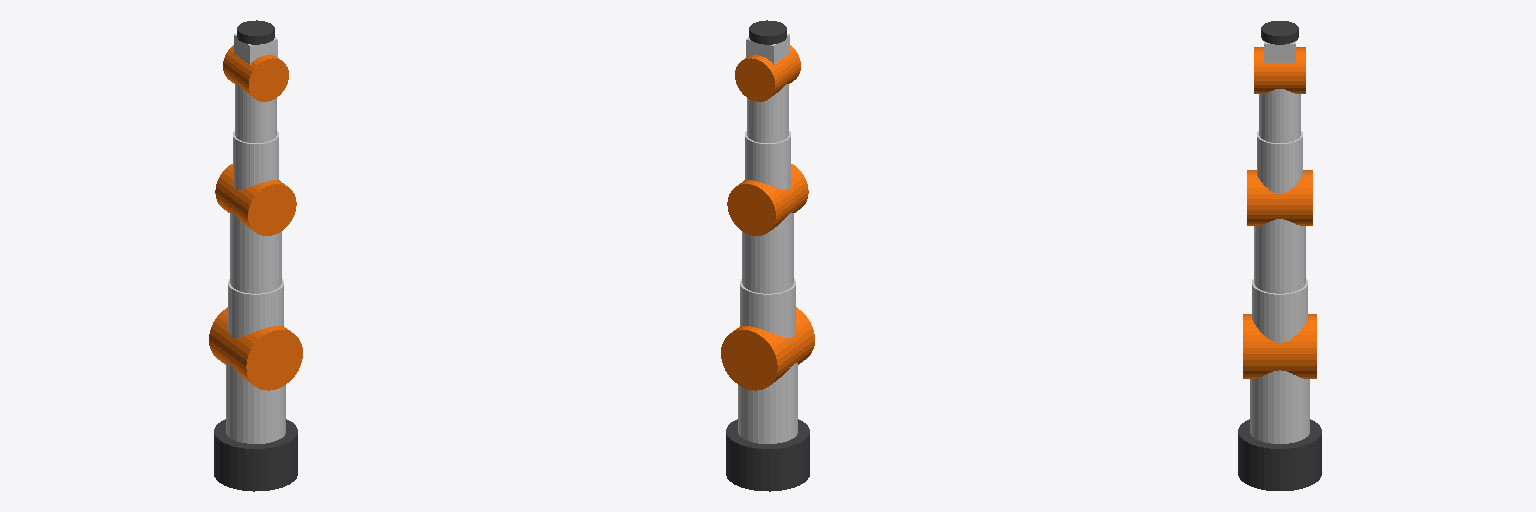
URDF robot description (arm7):
<?xml version="1.0"?>
<!-- 動作確認用の 7 軸アーム（KUKA iiwa 風の S-R-S 構成）。メッシュを使わず円柱・箱だけで形を作る -->
<robot name="arm7">

  <material name="gray">
    <color rgba="0.85 0.85 0.85 1.0"/>
  </material>
  <material name="orange">
    <color rgba="1.0 0.5 0.1 1.0"/>
  </material>
  <material name="dark">
    <color rgba="0.3 0.3 0.3 1.0"/>
  </material>

  <link name="base_link">
    <visual>
      <origin xyz="0 0 0.05" rpy="0 0 0"/>
      <geometry><cylinder radius="0.09" length="0.1"/></geometry>
      <material name="dark"/>
    </visual>
  </link>

  <!-- J1: 旋回 -->
  <link name="link1">
    <visual>
      <origin xyz="0 0 0.1" rpy="0 0 0"/>
      <geometry><cylinder radius="0.065" length="0.2"/></geometry>
      <material name="gray"/>
    </visual>
  </link>
  <joint name="joint1" type="revolute">
    <parent link="base_link"/>
    <child link="link1"/>
    <origin xyz="0 0 0.1" rpy="0 0 0"/>
    <axis xyz="0 0 1"/>
    <limit lower="-2.967" upper="2.967" effort="1" velocity="1"/>
  </joint>

  <!-- J2: 肩の曲げ -->
  <link name="link2">
    <visual>
      <origin xyz="0 0 0" rpy="1.5708 0 0"/>
      <geometry><cylinder radius="0.07" length="0.16"/></geometry>
      <material name="orange"/>
    </visual>
    <visual>
      <origin xyz="0 0 0.075" rpy="0 0 0"/>
      <geometry><cylinder radius="0.06" length="0.15"/></geometry>
      <material name="gray"/>
    </visual>
  </link>
  <joint name="joint2" type="revolute">
    <parent link="link1"/>
    <child link="link2"/>
    <origin xyz="0 0 0.2" rpy="0 0 0"/>
    <axis xyz="0 1 0"/>
    <limit lower="-2.094" upper="2.094" effort="1" velocity="1"/>
  </joint>

  <!-- J3: 上腕のひねり -->
  <link name="link3">
    <visual>
      <origin xyz="0 0 0.1" rpy="0 0 0"/>
      <geometry><cylinder radius="0.055" length="0.2"/></geometry>
      <material name="gray"/>
    </visual>
  </link>
  <joint name="joint3" type="revolute">
    <parent link="link2"/>
    <child link="link3"/>
    <origin xyz="0 0 0.15" rpy="0 0 0"/>
    <axis xyz="0 0 1"/>
    <limit lower="-2.967" upper="2.967" effort="1" velocity="1"/>
  </joint>

  <!-- J4: 肘の曲げ -->
  <link name="link4">
    <visual>
      <origin xyz="0 0 0" rpy="1.5708 0 0"/>
      <geometry><cylinder radius="0.06" length="0.14"/></geometry>
      <material name="orange"/>
    </visual>
    <visual>
      <origin xyz="0 0 0.075" rpy="0 0 0"/>
      <geometry><cylinder radius="0.05" length="0.15"/></geometry>
      <material name="gray"/>
    </visual>
  </link>
  <joint name="joint4" type="revolute">
    <parent link="link3"/>
    <child link="link4"/>
    <origin xyz="0 0 0.2" rpy="0 0 0"/>
    <axis xyz="0 -1 0"/>
    <limit lower="-2.094" upper="2.094" effort="1" velocity="1"/>
  </joint>

  <!-- J5: 前腕のひねり -->
  <link name="link5">
    <visual>
      <origin xyz="0 0 0.075" rpy="0 0 0"/>
      <geometry><cylinder radius="0.045" length="0.15"/></geometry>
      <material name="gray"/>
    </visual>
  </link>
  <joint name="joint5" type="revolute">
    <parent link="link4"/>
    <child link="link5"/>
    <origin xyz="0 0 0.15" rpy="0 0 0"/>
    <axis xyz="0 0 1"/>
    <limit lower="-2.967" upper="2.967" effort="1" velocity="1"/>
  </joint>

  <!-- J6: 手首の曲げ -->
  <link name="link6">
    <visual>
      <origin xyz="0 0 0" rpy="1.5708 0 0"/>
      <geometry><cylinder radius="0.05" length="0.11"/></geometry>
      <material name="orange"/>
    </visual>
    <visual>
      <origin xyz="0 0 0.04" rpy="0 0 0"/>
      <geometry><box size="0.07 0.07 0.08"/></geometry>
      <material name="gray"/>
    </visual>
  </link>
  <joint name="joint6" type="revolute">
    <parent link="link5"/>
    <child link="link6"/>
    <origin xyz="0 0 0.15" rpy="0 0 0"/>
    <axis xyz="0 1 0"/>
    <limit lower="-2.094" upper="2.094" effort="1" velocity="1"/>
  </joint>

  <!-- J7: フランジの回転 -->
  <link name="link7">
    <visual>
      <origin xyz="0 0 0.01" rpy="0 0 0"/>
      <geometry><cylinder radius="0.04" length="0.02"/></geometry>
      <material name="dark"/>
    </visual>
  </link>
  <joint name="joint7" type="revolute">
    <parent link="link6"/>
    <child link="link7"/>
    <origin xyz="0 0 0.08" rpy="0 0 0"/>
    <axis xyz="0 0 1"/>
    <limit lower="-3.054" upper="3.054" effort="1" velocity="1"/>
  </joint>

  <link name="tool0"/>
  <joint name="joint_end" type="fixed">
    <parent link="link7"/>
    <child link="tool0"/>
    <origin xyz="0 0 0.02" rpy="0 0 0"/>
  </joint>

</robot>

--- Render facts (derived) ---
The picture shows the robot from 3 angles, left to right: view 1: azimuth 30°, elevation 25°; view 2: azimuth 150°, elevation 25°; view 3: azimuth 270°, elevation 25°; orthographic projection.
Robot: arm7 — 9 links, 8 joints (7 revolute, 1 fixed); root link base_link; default pose: every joint at zero.
Links seen in each view (by area): view 1: link2, link4, base_link, link1, link3, link6, link5, link7; view 2: link2, link4, base_link, link1, link3, link6, link5, link7; view 3: link2, link4, base_link, link1, link3, link6, link5, link7.
Link boxes in pixels (x1,y1,x2,y2): link2: (209, 279, 302, 390); link4: (215, 131, 296, 235); base_link: (214, 419, 297, 491); link1: (226, 363, 285, 443); link3: (230, 213, 281, 293); link6: (223, 34, 288, 101); link5: (235, 84, 276, 142); link7: (237, 20, 274, 44); link2: (721, 279, 814, 390); link4: (727, 131, 808, 235); base_link: (726, 419, 809, 491); link1: (738, 363, 797, 443); link3: (742, 213, 793, 293); link6: (735, 34, 800, 101); link5: (747, 84, 788, 142); link7: (749, 20, 786, 44); link2: (1243, 279, 1316, 378); link4: (1247, 131, 1312, 225); base_link: (1238, 419, 1321, 490); link1: (1250, 370, 1309, 443); link3: (1254, 219, 1305, 293); link6: (1254, 41, 1305, 93); link5: (1259, 89, 1300, 142); link7: (1261, 21, 1298, 44).
Bounding box of the posed robot: 0.18 × 0.18 × 1.05 m (x, y, z).
Geometry: primitives only (box / cylinder / sphere), no mesh files.
